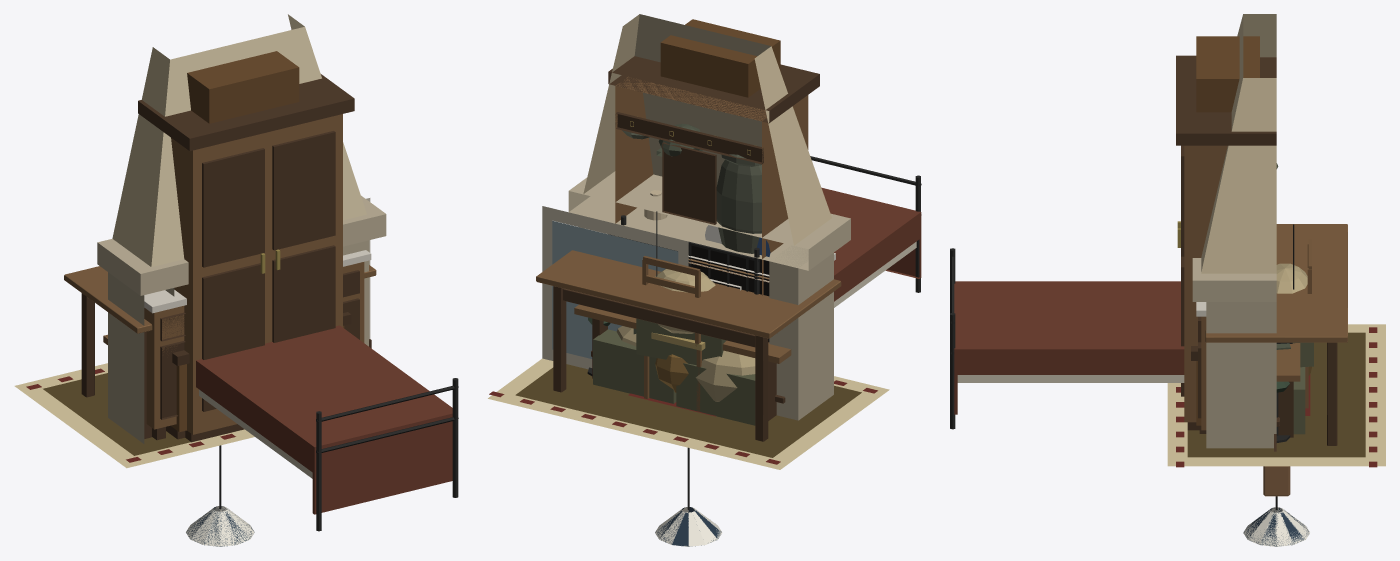
The model's file is interior_kit.glb.
The picture shows the model from 3 angles, left to right: view 1: azimuth 30°, elevation 25°; view 2: azimuth 150°, elevation 25°; view 3: azimuth 270°, elevation 25°; orthographic projection. The views are drawn at different scales.
Parts seen in each view (by area): view 1: wardrobe, bed, fireplace, rug, credenza, table, pendant, chest; view 2: fireplace, wardrobe, rug, table, bed, crates, coat_rack, leaf_glass, washstand, leaf, sacks, bench (+4 smaller); view 3: fireplace, bed, wardrobe, rug, table, pendant, bench, crates, credenza, beam, sacks.
Part boxes in pixels (x1,y1,x2,y2): wardrobe: [138, 51, 354, 442]; bed: [196, 325, 458, 531]; fireplace: [97, 14, 386, 443]; rug: [14, 363, 254, 468]; credenza: [144, 250, 371, 440]; table: [64, 265, 376, 438]; pendant: [186, 445, 254, 546]; chest: [166, 312, 351, 439]; fireplace: [568, 14, 850, 420]; wardrobe: [608, 19, 819, 295]; rug: [488, 358, 889, 469]; table: [536, 250, 841, 441]; bed: [621, 156, 921, 307]; crates: [593, 318, 755, 425]; coat_rack: [615, 112, 763, 253]; leaf_glass: [552, 221, 678, 358]; washstand: [662, 142, 741, 290]; leaf: [542, 206, 688, 369]; sacks: [616, 269, 755, 401]; bench: [574, 304, 791, 420]; fireplace: [1192, 14, 1276, 448]; bed: [950, 248, 1184, 429]; wardrobe: [1176, 36, 1276, 430]; rug: [1167, 324, 1385, 467]; table: [1205, 224, 1347, 445]; pendant: [1243, 496, 1309, 546]; bench: [1276, 343, 1300, 437]; crates: [1276, 342, 1313, 434]; credenza: [1196, 302, 1206, 430]; beam: [1263, 466, 1290, 496]; sacks: [1276, 263, 1307, 293].
Size of the model in its own units: 2.02 by 3.2 by 2.6.
